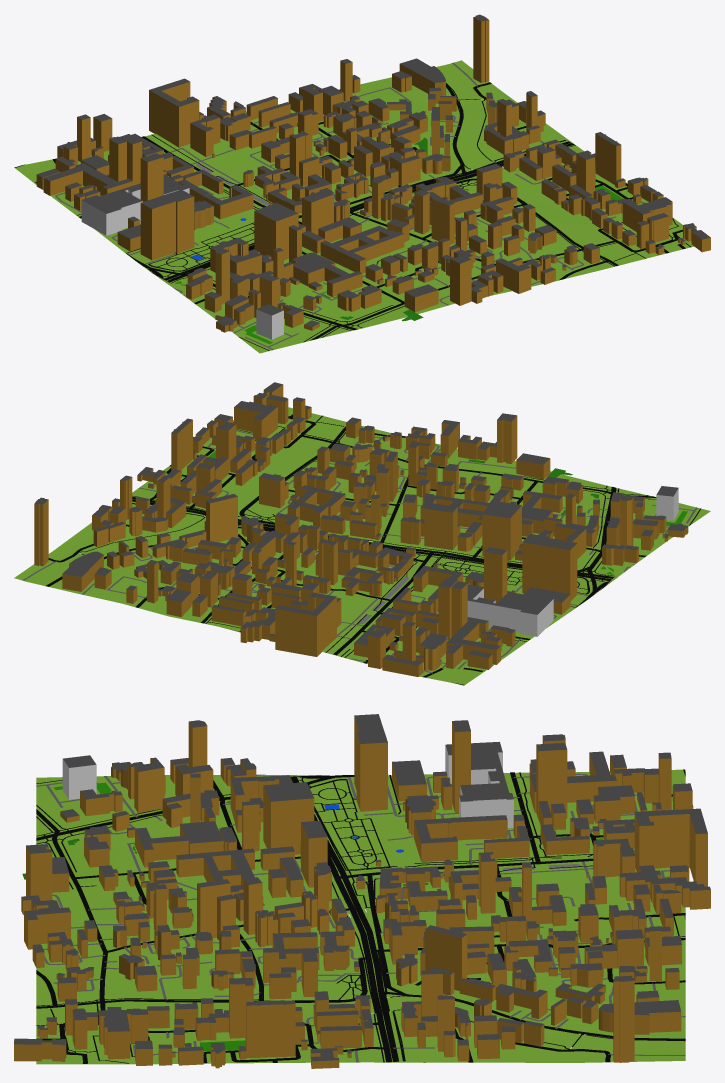
Rendered from tile_06_04.glb.
The picture shows the model from 3 angles, top to bottom: view 1: azimuth 30°, elevation 25°; view 2: azimuth 150°, elevation 25°; view 3: azimuth 270°, elevation 25°; orthographic projection. The views are drawn at different scales.
Visible parts, largest first — view 1: Ub_small.osm_buildings_06_04, Terrain_06_04, Soyliin_tuv_urguu_06_04, Ub_small.osm_paths_footway_06_04, Ub_small.osm_roads_service_06_04, Ub_small.osm_roads_tertiary_06_04, Ub_small.osm_roads_residential_06_04, Hurimiin_ordon_06_04, Ub_small.osm_roads_trunk_06_04; view 2: Ub_small.osm_buildings_06_04, Terrain_06_04, Soyliin_tuv_urguu_06_04, Ub_small.osm_paths_footway_06_04, Ub_small.osm_roads_service_06_04, Ub_small.osm_roads_tertiary_06_04, Ub_small.osm_roads_residential_06_04, Ub_small.osm_roads_trunk_06_04, Hurimiin_ordon_06_04, Ub_small.osm_roads_secondary_06_04; view 3: Ub_small.osm_buildings_06_04, Terrain_06_04, Ub_small.osm_paths_footway_06_04, Ub_small.osm_roads_service_06_04, Ub_small.osm_roads_tertiary_06_04, Soyliin_tuv_urguu_06_04, Ub_small.osm_roads_residential_06_04, Ub_small.osm_roads_trunk_06_04, Hurimiin_ordon_06_04, Ub_small.osm_paths_cycleway_06_04, Ub_small.osm_roads_secondary_06_04.
Part boxes in pixels (x1=…): Ub_small.osm_buildings_06_04: x1=36, y1=14, x2=710, y2=332; Terrain_06_04: x1=14, y1=60, x2=693, y2=353; Soyliin_tuv_urguu_06_04: x1=81, y1=174, x2=189, y2=235; Ub_small.osm_paths_footway_06_04: x1=15, y1=83, x2=690, y2=350; Ub_small.osm_roads_service_06_04: x1=55, y1=62, x2=643, y2=350; Ub_small.osm_roads_tertiary_06_04: x1=79, y1=83, x2=618, y2=340; Ub_small.osm_roads_residential_06_04: x1=231, y1=82, x2=685, y2=287; Hurimiin_ordon_06_04: x1=256, y1=304, x2=283, y2=339; Ub_small.osm_roads_trunk_06_04: x1=148, y1=141, x2=574, y2=282; Ub_small.osm_buildings_06_04: x1=34, y1=382, x2=688, y2=676; Terrain_06_04: x1=14, y1=407, x2=710, y2=685; Soyliin_tuv_urguu_06_04: x1=467, y1=583, x2=553, y2=636; Ub_small.osm_paths_footway_06_04: x1=46, y1=415, x2=700, y2=685; Ub_small.osm_roads_service_06_04: x1=22, y1=430, x2=697, y2=673; Ub_small.osm_roads_tertiary_06_04: x1=46, y1=426, x2=656, y2=640; Ub_small.osm_roads_residential_06_04: x1=48, y1=414, x2=519, y2=663; Ub_small.osm_roads_trunk_06_04: x1=132, y1=497, x2=613, y2=591; Hurimiin_ordon_06_04: x1=656, y1=486, x2=678, y2=520; Ub_small.osm_roads_secondary_06_04: x1=333, y1=551, x2=596, y2=655; Ub_small.osm_buildings_06_04: x1=14, y1=714, x2=710, y2=1068; Terrain_06_04: x1=36, y1=769, x2=685, y2=1064; Ub_small.osm_paths_footway_06_04: x1=36, y1=769, x2=685, y2=1063; Ub_small.osm_roads_service_06_04: x1=36, y1=773, x2=685, y2=1062; Ub_small.osm_roads_tertiary_06_04: x1=36, y1=772, x2=685, y2=1040; Soyliin_tuv_urguu_06_04: x1=445, y1=741, x2=513, y2=827; Ub_small.osm_roads_residential_06_04: x1=36, y1=833, x2=685, y2=1063; Ub_small.osm_roads_trunk_06_04: x1=290, y1=776, x2=398, y2=1062; Hurimiin_ordon_06_04: x1=62, y1=755, x2=96, y2=799; Ub_small.osm_paths_cycleway_06_04: x1=309, y1=775, x2=593, y2=1061; Ub_small.osm_roads_secondary_06_04: x1=307, y1=774, x2=593, y2=878.
Bounding box in the file's own units: 1018 × 136 × 998.
